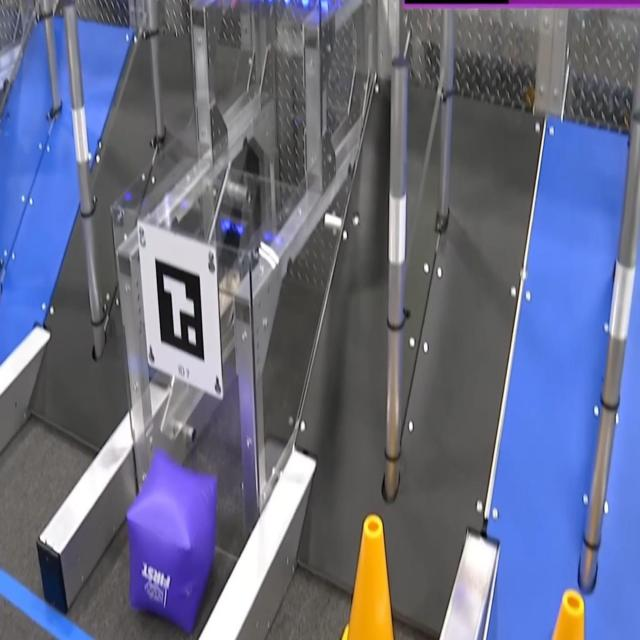frc_cone: (335, 512, 395, 640), (541, 585, 599, 640)
frc_cube: (125, 451, 218, 631)
